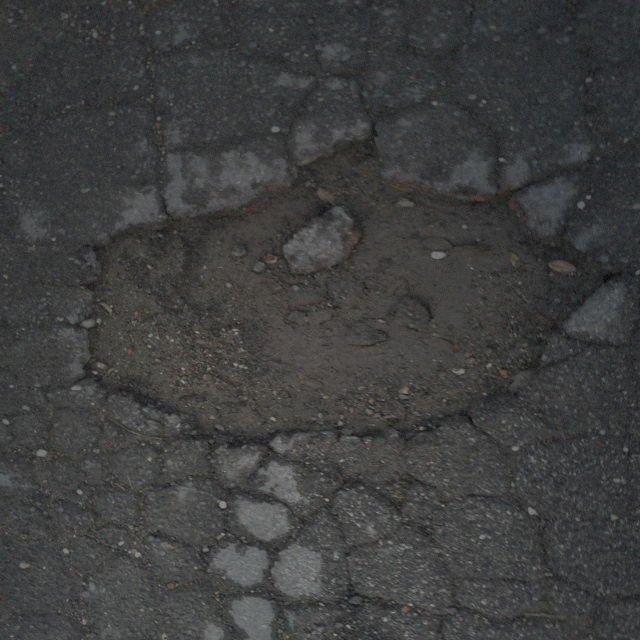pothole: (80, 131, 590, 462)
